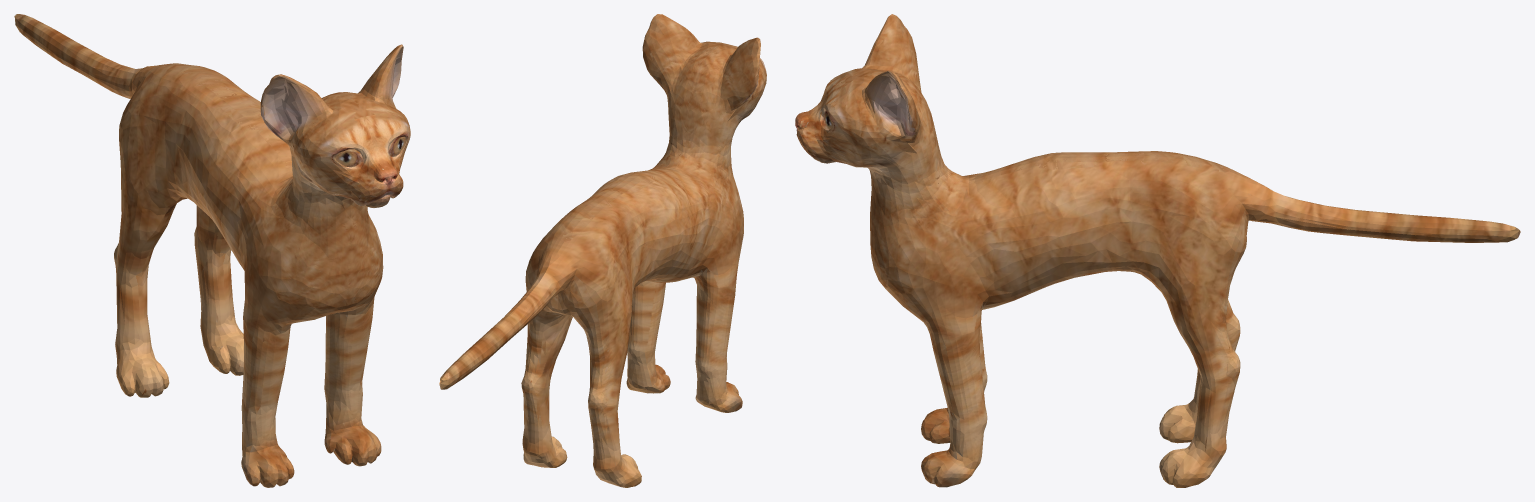
Rendered from EgyptianMau.gltf.
3 views of the same model, side by side, from view 1: azimuth 30°, elevation 25°; view 2: azimuth 150°, elevation 25°; view 3: azimuth 270°, elevation 25° (orthographic). The views are drawn at different scales.
Visible parts, largest first — view 1: Cat_Base_1.002; view 2: Cat_Base_1.002; view 3: Cat_Base_1.002.
Part boxes in pixels (x1,y1,x2,y2): Cat_Base_1.002: (14,14,410,487); Cat_Base_1.002: (439,14,766,487); Cat_Base_1.002: (795,14,1520,487).
Size of the model in its own units: 1.47 by 4.33 by 6.84.
Materials: 1 (1 with a texture image).
